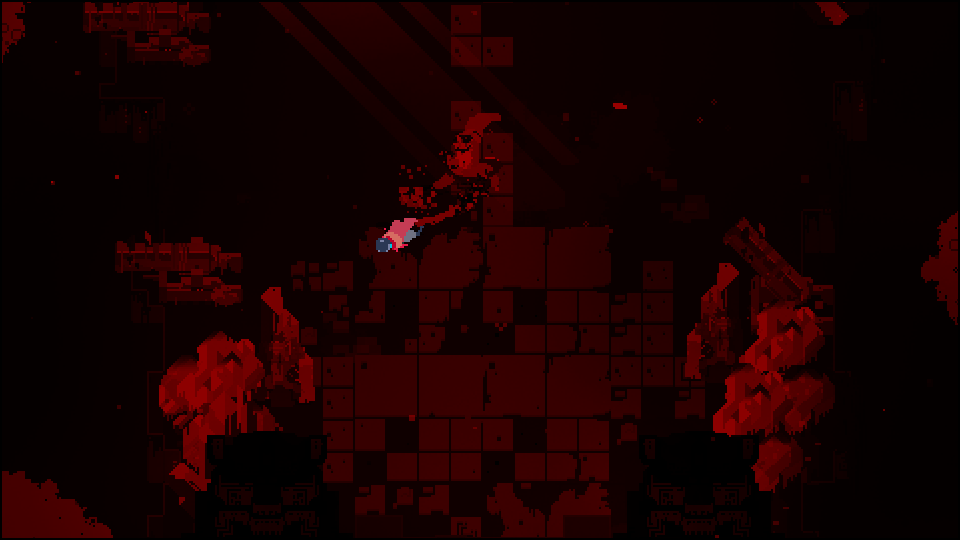player: (369, 216, 429, 255)
